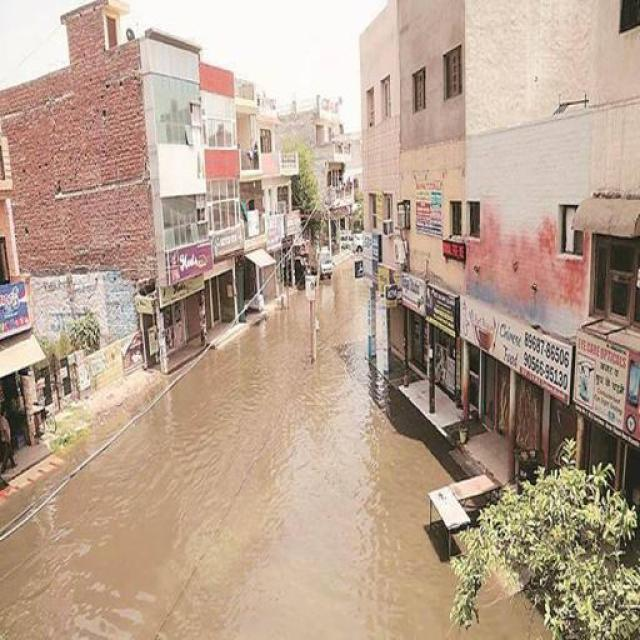puddle: (96, 430, 447, 635), (271, 302, 381, 627)
